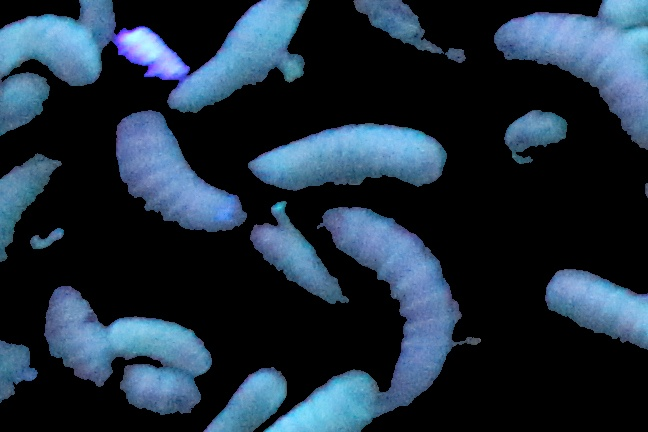larvae: (326, 206, 461, 395), (501, 10, 648, 145), (49, 293, 197, 407), (116, 111, 243, 230), (172, 2, 290, 110), (247, 216, 345, 309), (350, 1, 471, 70), (264, 135, 441, 182), (551, 268, 648, 352), (1, 16, 99, 86), (1, 153, 53, 277), (214, 361, 292, 431), (1, 75, 50, 186), (508, 102, 592, 163), (113, 316, 208, 369), (76, 1, 115, 46)
